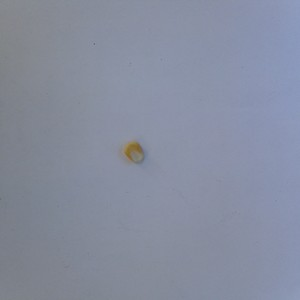maiz: (121, 138, 148, 166)
